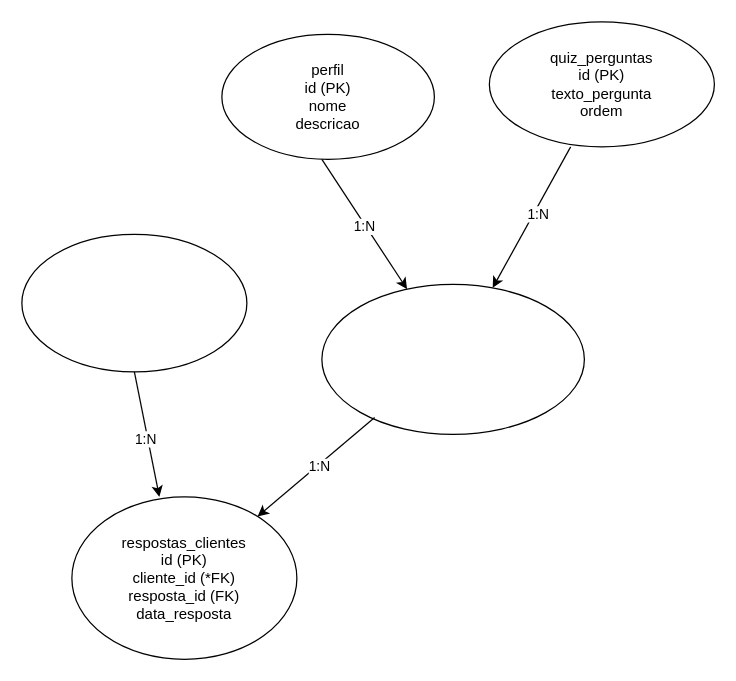
Some shapes in this 736 by 681 pixel diagram are drawn without their labels. The shapes that lost their labels are listed below. From the top down, each one's centre as x and y in pixels, then its label:
At (x=134, y=302): "cliente id (PK) nome bloco_apto data_cadastro".
At (x=452, y=358): "quiz_respostas id (PK) pergunta_id (FK) texto_resposta perfil_id(FK)".
